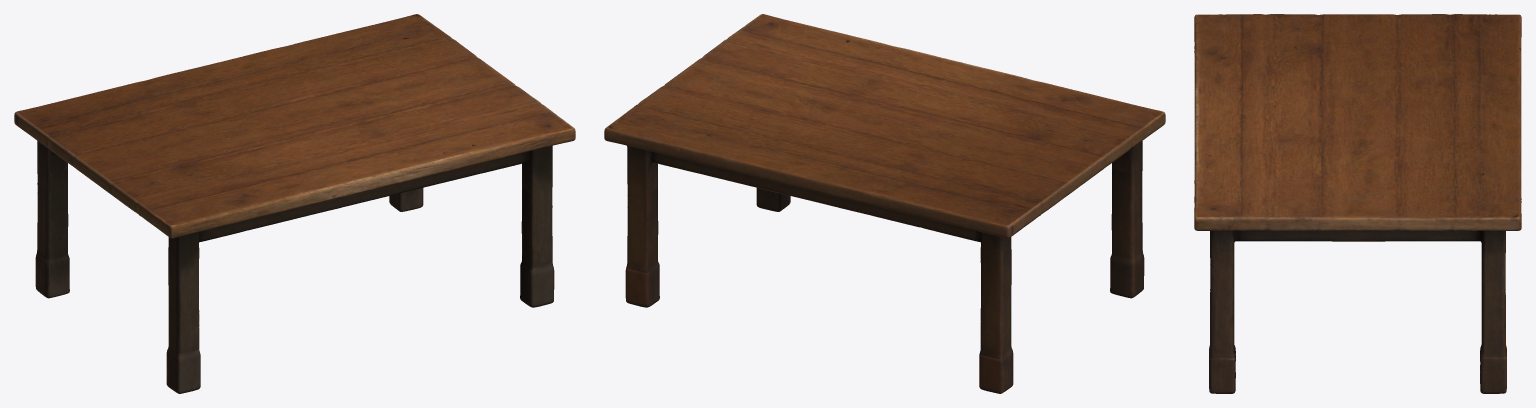
The model's file is Meshy_AI_a_table_0301170722_texture.glb.
3 renders of one model, left to right at view 1: azimuth 30°, elevation 25°; view 2: azimuth 150°, elevation 25°; view 3: azimuth 270°, elevation 25°, orthographic. The views are drawn at different scales.
Size of the model in its own units: 2 by 0.8372 by 1.35.
1 material, 1 textured.
